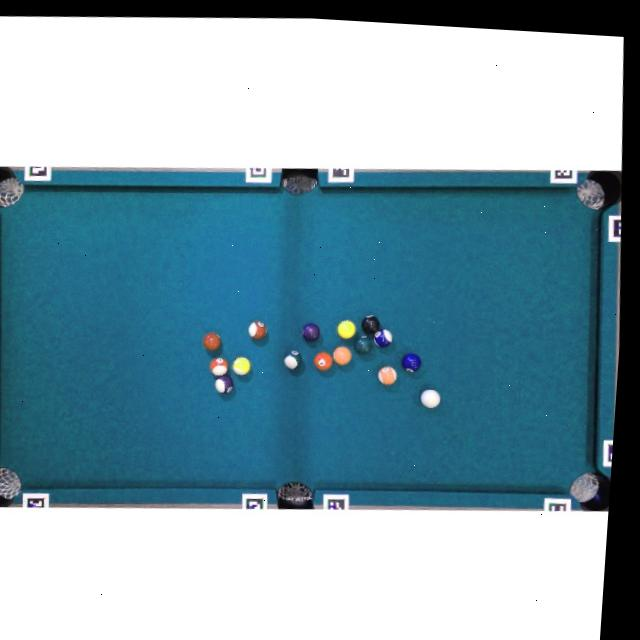cue ball: (420, 388, 441, 410)
other: (401, 352, 422, 373), (336, 319, 357, 340), (360, 314, 381, 335), (313, 350, 333, 372), (230, 356, 252, 376), (208, 356, 230, 376), (333, 345, 353, 366), (283, 350, 303, 371), (377, 366, 398, 386), (373, 328, 393, 349), (353, 334, 373, 355), (213, 374, 234, 394), (301, 322, 321, 342), (203, 331, 223, 351), (248, 319, 267, 340)
